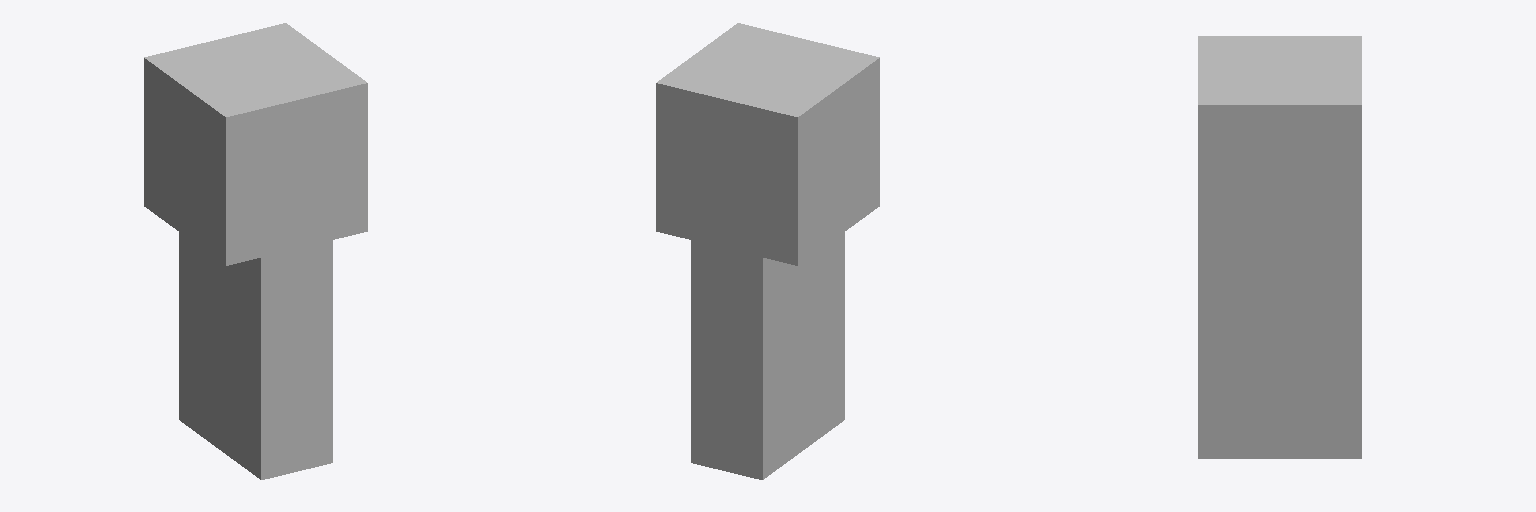
File: zombie_body.obj
3 renders of one model, left to right at view 1: azimuth 30°, elevation 25°; view 2: azimuth 150°, elevation 25°; view 3: azimuth 270°, elevation 25°, orthographic.
Visible parts, largest first — view 1: 큐브, Cube; view 2: 큐브, Cube; view 3: 큐브, Cube.
Part boxes in pixels (bbox=[...]): 큐브: bbox=[144, 23, 367, 265]; Cube: bbox=[179, 232, 332, 479]; 큐브: bbox=[656, 23, 879, 265]; Cube: bbox=[691, 232, 844, 479]; 큐브: bbox=[1198, 36, 1361, 252]; Cube: bbox=[1198, 253, 1361, 458].
Bounding box in the file's own units: 0.4 × 1 × 0.4.